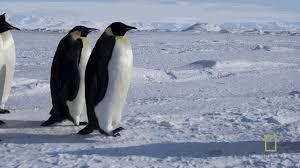emporer: (78, 14, 144, 144), (47, 19, 99, 139)
